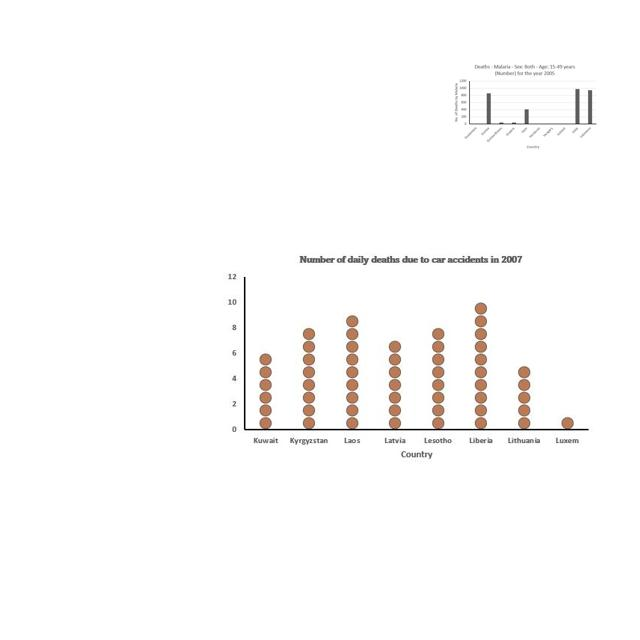Graph: (223, 247, 599, 470), (452, 63, 599, 152)
